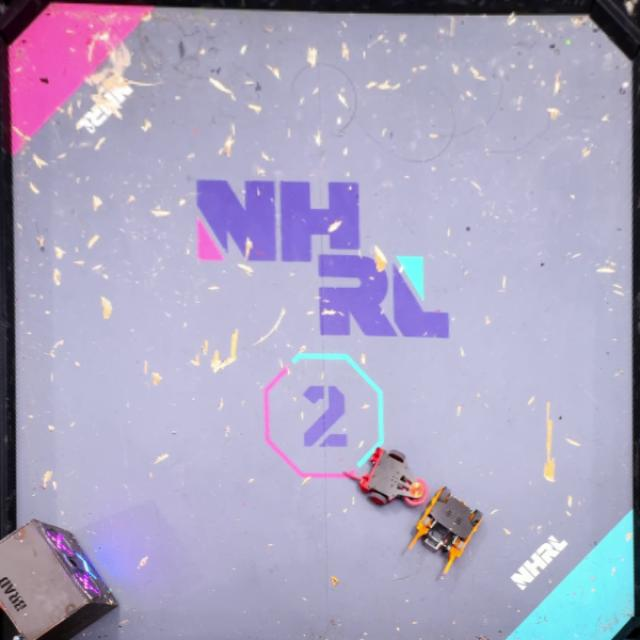housebot: (0, 518, 117, 640)
robot: (405, 485, 485, 575), (344, 446, 429, 508)
